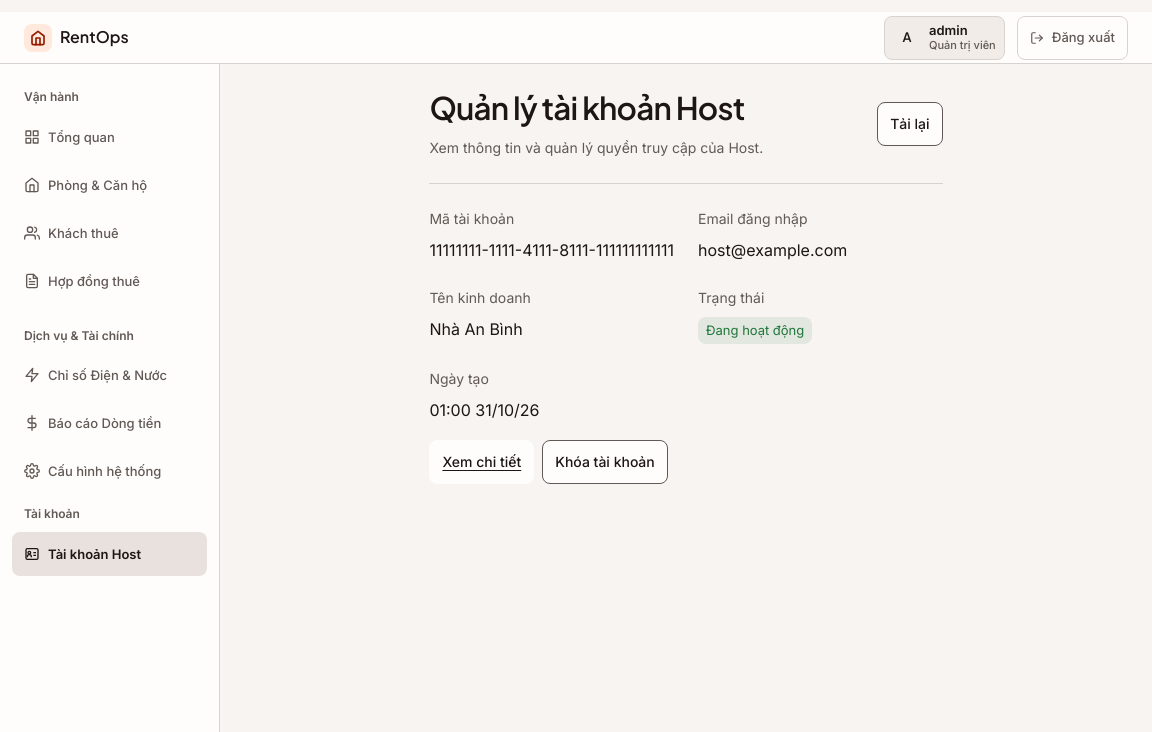
UC07 screens and routing › discards cached records and removes entry points when permission is revoked during reload
The width and height of the screenshot is (1152, 732).
Click the button "Tải lại".
click(910, 124)  # box left=877, top=102, right=943, bottom=146
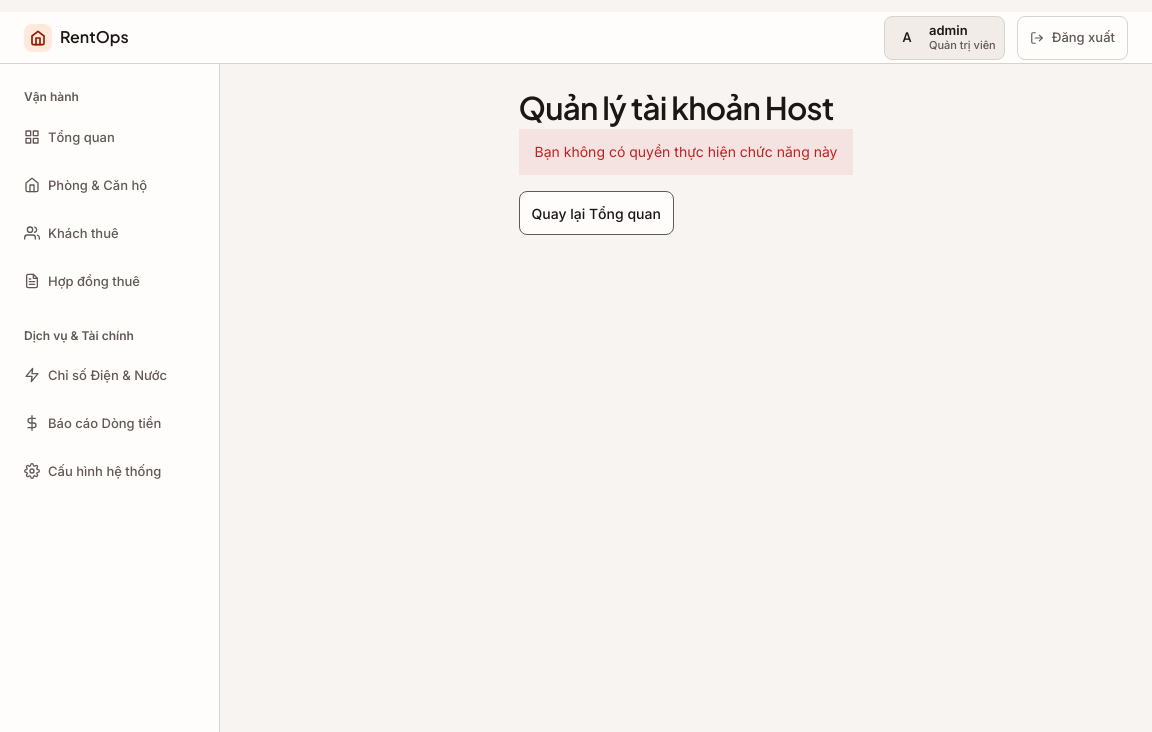
Expected: the text "Bạn không có quyền thực hiện chức năng này" is shown, left=518, top=129, right=853, bottom=175
Expected: the text "host@example.com" is gone
